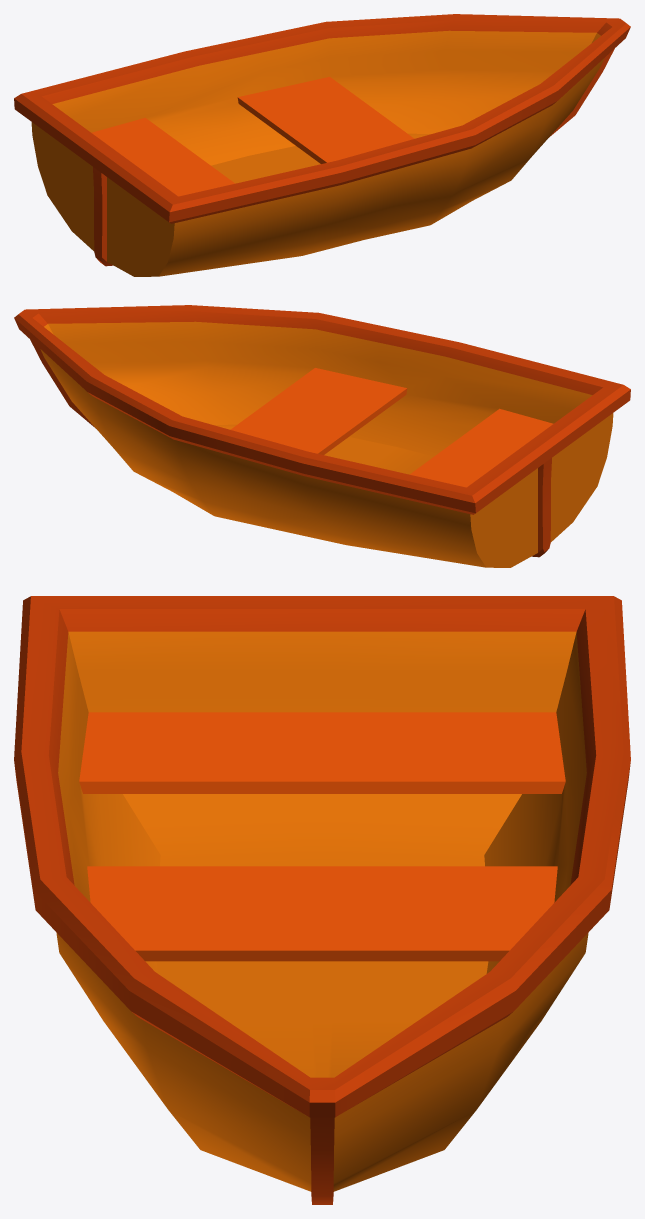
File: Boat.fbx
The picture shows the model from 3 angles, top to bottom: view 1: azimuth 30°, elevation 25°; view 2: azimuth 150°, elevation 25°; view 3: azimuth 270°, elevation 25°; orthographic projection. The views are drawn at different scales.
Visible parts, largest first — view 1: Boat; view 2: Boat; view 3: Boat.
Part boxes in pixels (x1,y1,x2,y2): Boat: [14, 14, 630, 276]; Boat: [14, 305, 630, 567]; Boat: [14, 596, 630, 1204].
Size of the model in its own units: 656 by 168 by 340.
